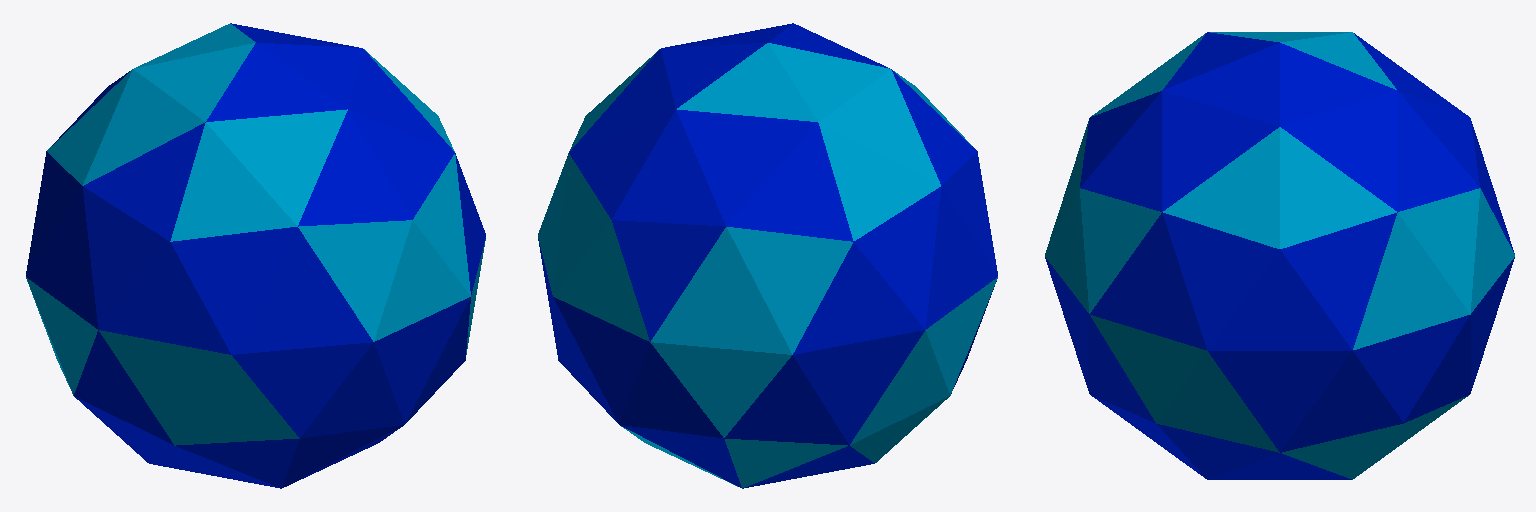
The model's file is blue_ball3.obj.
3 renders of one model, left to right at view 1: azimuth 30°, elevation 25°; view 2: azimuth 150°, elevation 25°; view 3: azimuth 270°, elevation 25°, orthographic.
Parts seen in each view (by area): view 1: Icosphere; view 2: Icosphere; view 3: Icosphere.
Part boxes in pixels (x1,y1,x2,y2): Icosphere: (26, 23, 485, 488); Icosphere: (538, 23, 997, 488); Icosphere: (1045, 32, 1514, 479).
Bounding box in the file's own units: 1.9 × 2 × 2.